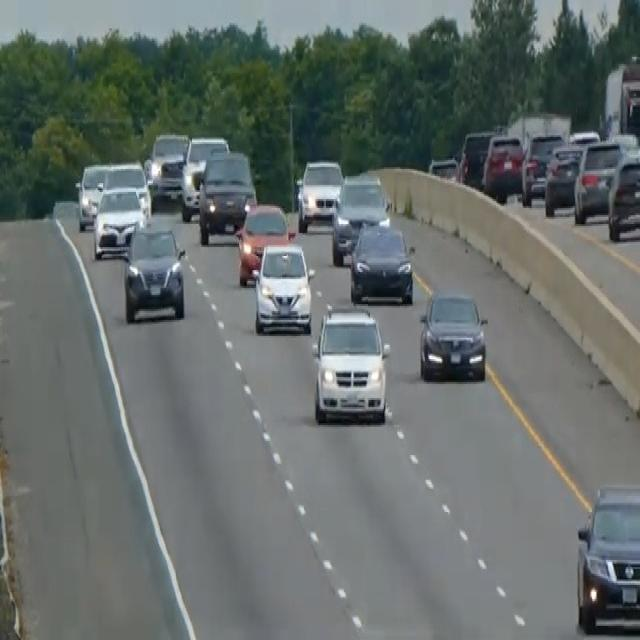car: (574, 480, 639, 633), (418, 286, 488, 382), (122, 220, 186, 322), (252, 240, 315, 334), (348, 218, 415, 306), (197, 148, 256, 244), (330, 171, 389, 265), (234, 201, 295, 286), (179, 134, 229, 220), (573, 137, 622, 224), (92, 183, 147, 260), (296, 157, 344, 231), (481, 131, 525, 201), (521, 130, 563, 202), (100, 160, 151, 219), (607, 148, 639, 242), (147, 130, 189, 201), (543, 141, 583, 215), (74, 160, 109, 229), (457, 128, 496, 187), (427, 153, 458, 181)
lorry: (601, 53, 639, 153)
minivan: (310, 300, 392, 426)
